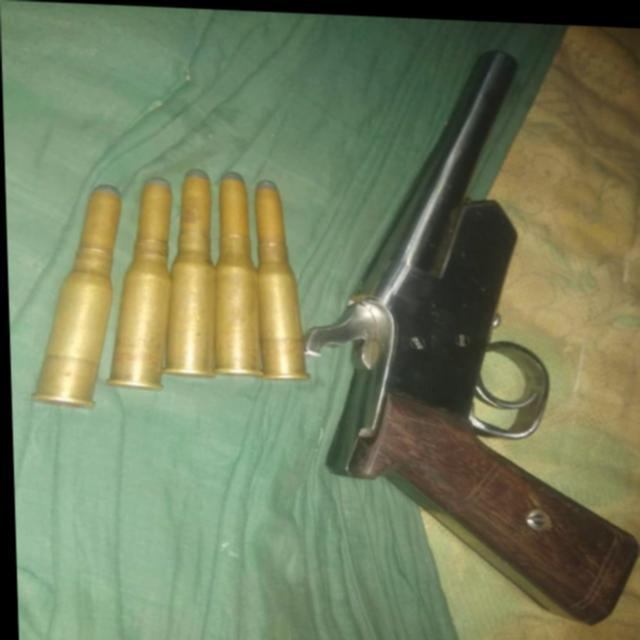weapon: (287, 31, 640, 626)
